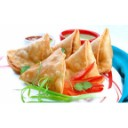samosa: (21, 49, 65, 92), (8, 34, 53, 71), (68, 40, 100, 79), (93, 28, 114, 72)
